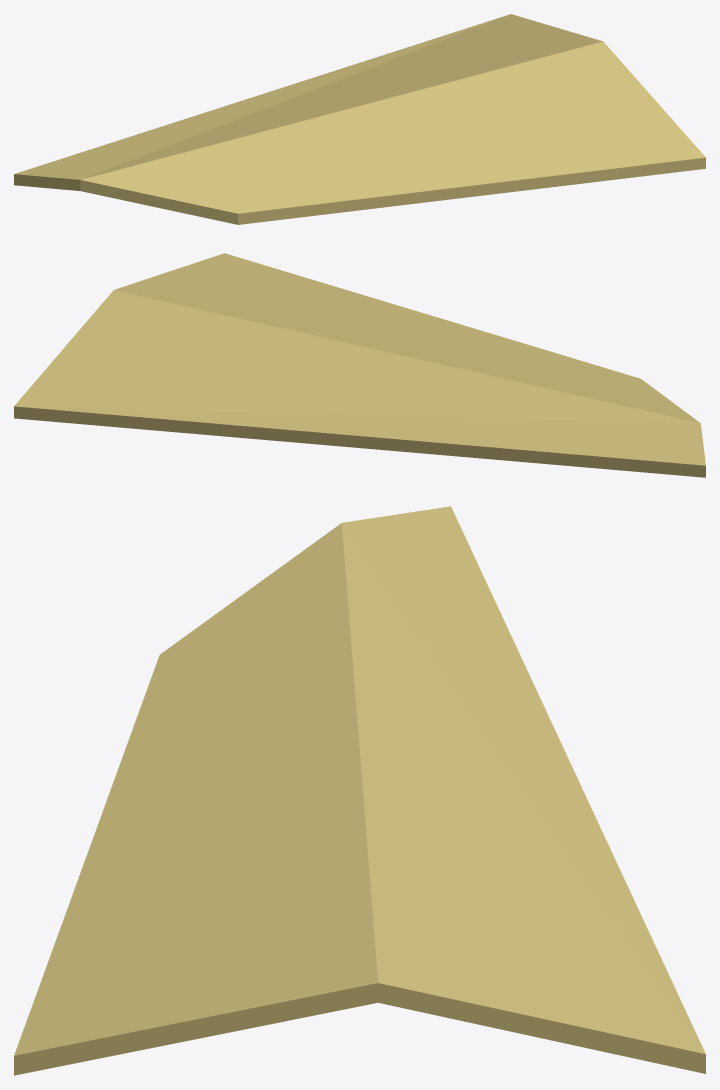
File: SH_Bird_Wing_Lemon.fbx
3 renders of one model, top to bottom at view 1: azimuth 30°, elevation 25°; view 2: azimuth 150°, elevation 25°; view 3: azimuth 270°, elevation 25°, orthographic. The views are drawn at different scales.
Visible parts, largest first — view 1: SH_Bird_Wing_Lemon; view 2: SH_Bird_Wing_Lemon; view 3: SH_Bird_Wing_Lemon.
Part boxes in pixels (x1,y1,x2,y2): SH_Bird_Wing_Lemon: [14, 14, 705, 224]; SH_Bird_Wing_Lemon: [14, 253, 705, 477]; SH_Bird_Wing_Lemon: [14, 506, 705, 1075].
Bounding box in the file's own units: 0.16 × 0.014 × 0.095.
